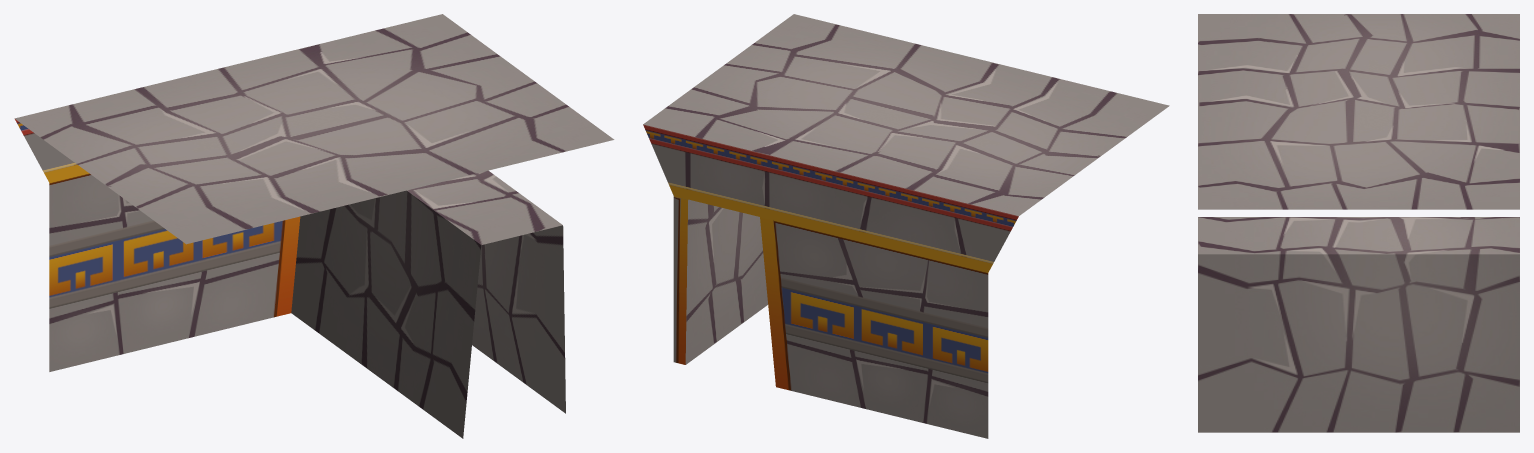
File: ham3.fbx
3 views of the same model, side by side, from view 1: azimuth 30°, elevation 25°; view 2: azimuth 150°, elevation 25°; view 3: azimuth 270°, elevation 25° (orthographic). The views are drawn at different scales.
Parts seen in each view (by area): view 1: pCube65; view 2: pCube65; view 3: pCube65.
Part boxes in pixels (x1=…): pCube65: x1=14, y1=14, x2=614, y2=438; pCube65: x1=643, y1=14, x2=1169, y2=438; pCube65: x1=1198, y1=14, x2=1519, y2=432.
Bounding box in the file's own units: 28.22 × 16.51 × 19.62.
